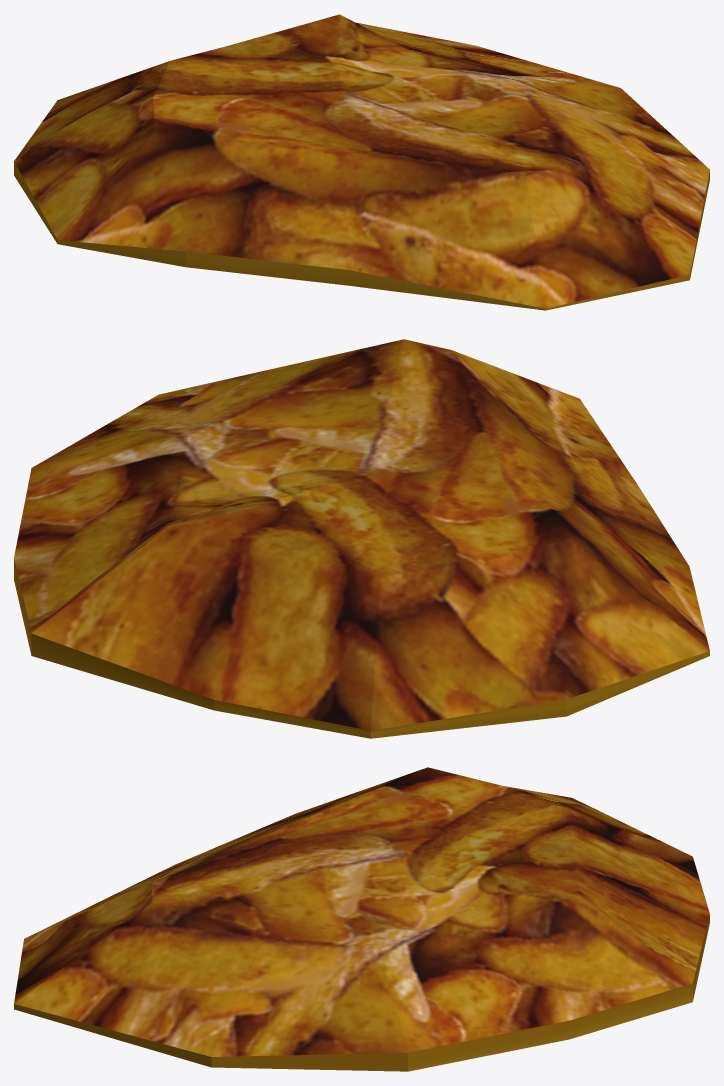
File: f_WedgeFries_loose.fbx
3 views of the same model, one above another, from view 1: azimuth 30°, elevation 25°; view 2: azimuth 150°, elevation 25°; view 3: azimuth 270°, elevation 25° (orthographic). The views are drawn at different scales.
Visible parts, largest first — view 1: Cylinder; view 2: Cylinder; view 3: Cylinder.
Boxes of the visible parts, x1=… form: Cylinder: x1=14, y1=14, x2=709, y2=310; Cylinder: x1=14, y1=339, x2=709, y2=738; Cylinder: x1=14, y1=767, x2=709, y2=1071.
Bounding box in the file's own units: 38.46 × 36.33 × 5.05.
